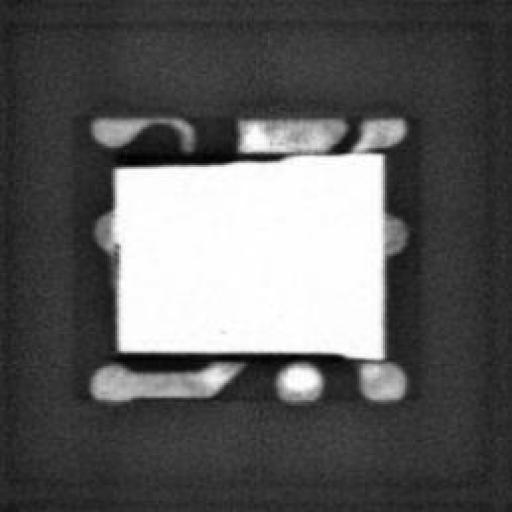DIE_BROKEN: (109, 148, 284, 169), (111, 347, 357, 360)
